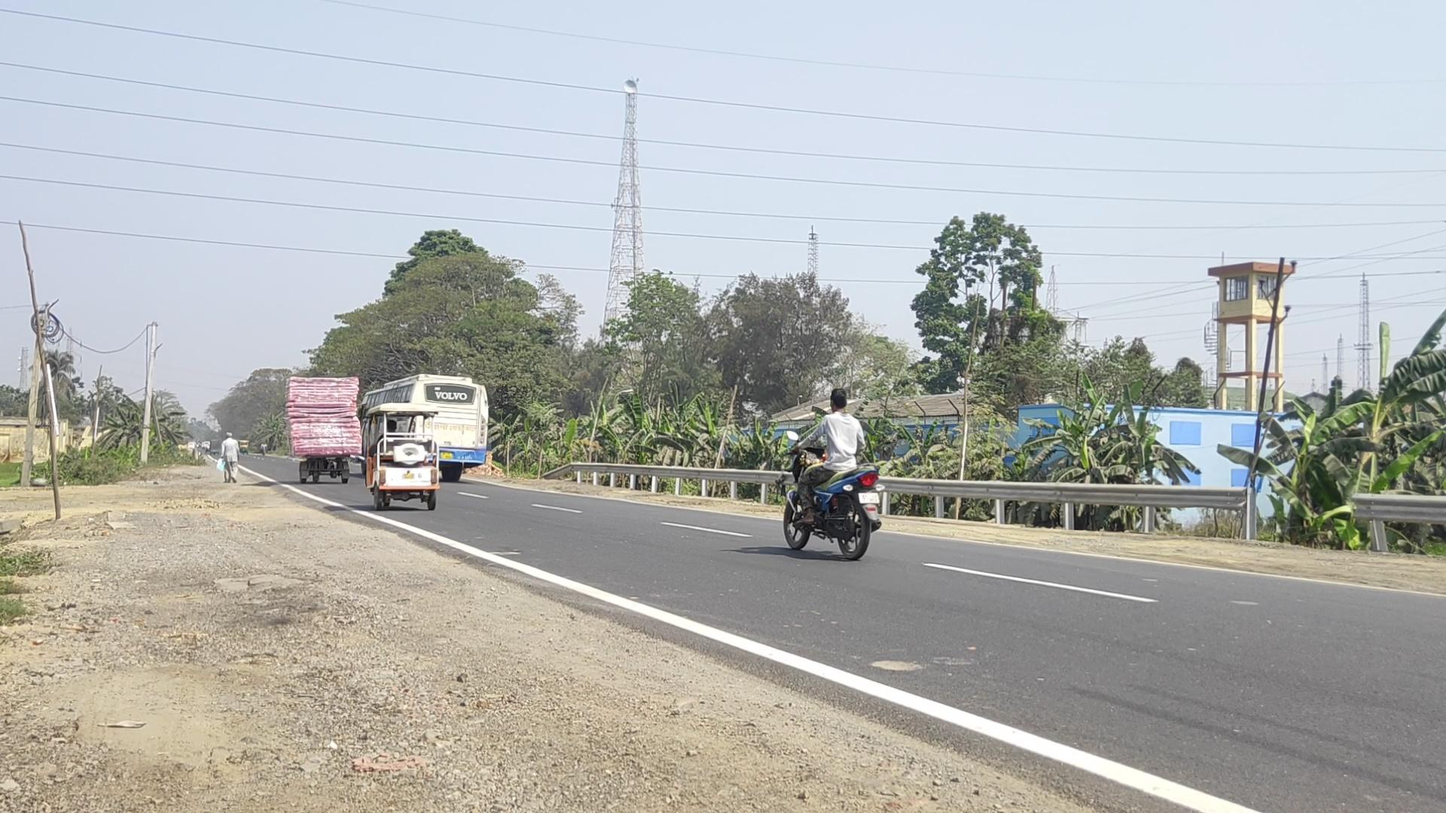Auto: (360, 402, 441, 511)
Bus: (359, 373, 489, 481)
bike: (784, 388, 885, 561)
